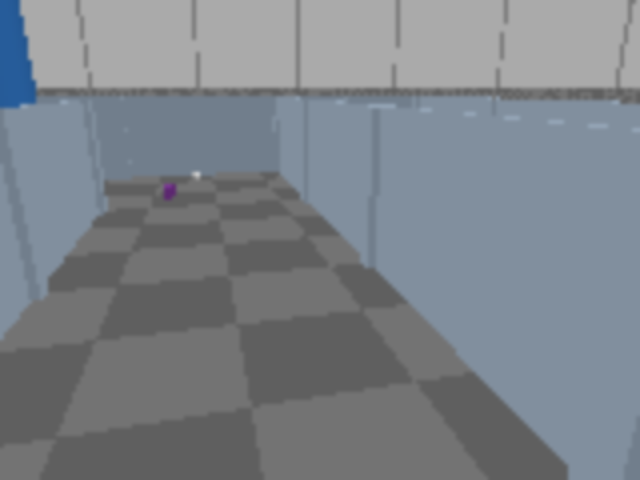person: (0, 0, 52, 208)
